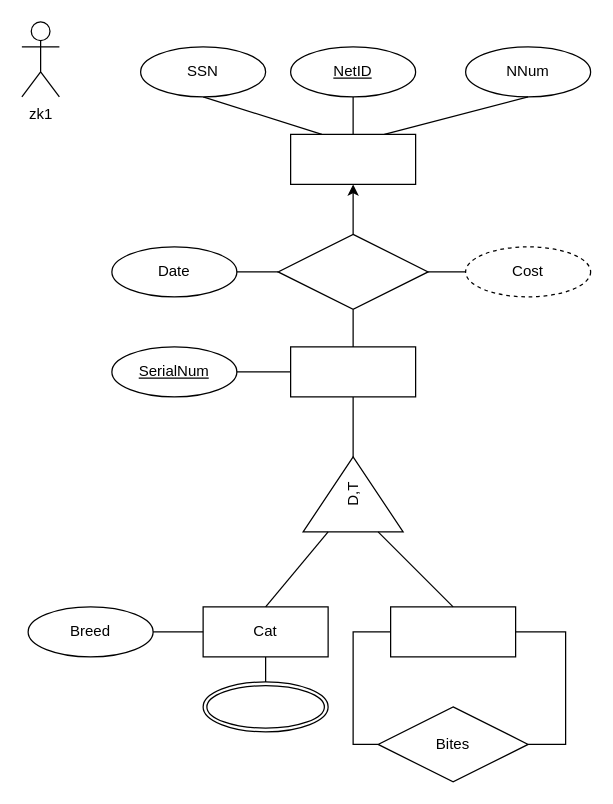
This 613x804 diagram has some shape labels left out. Each missing label, with the centre of its shape:
Animal: the point at 352,371
Belongs: the point at 352,271
Dog: the point at 452,631
Student: the point at 352,158
Toy: the point at 265,706
